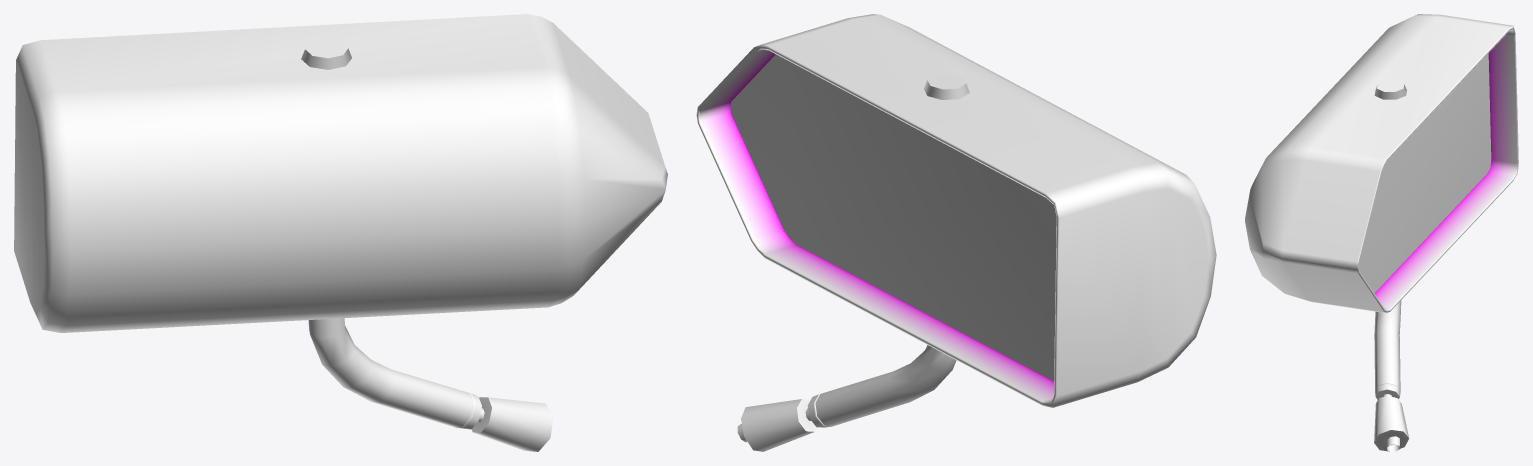
File: Car_Ford_GT_2017_MirrorR_SetXU.fbx
3 renders of one model, left to right at view 1: azimuth 30°, elevation 25°; view 2: azimuth 150°, elevation 25°; view 3: azimuth 270°, elevation 25°, orthographic. The views are drawn at different scales.
Parts seen in each view (by area): view 1: MirrorR 6; view 2: MirrorR 6; view 3: MirrorR 6.
Part boxes in pixels (x1,y1,x2,y2): MirrorR 6: [14, 14, 667, 451]; MirrorR 6: [696, 14, 1216, 451]; MirrorR 6: [1245, 14, 1518, 451].
Size of the model in its own units: 0.1898 by 0.1407 by 0.116.
